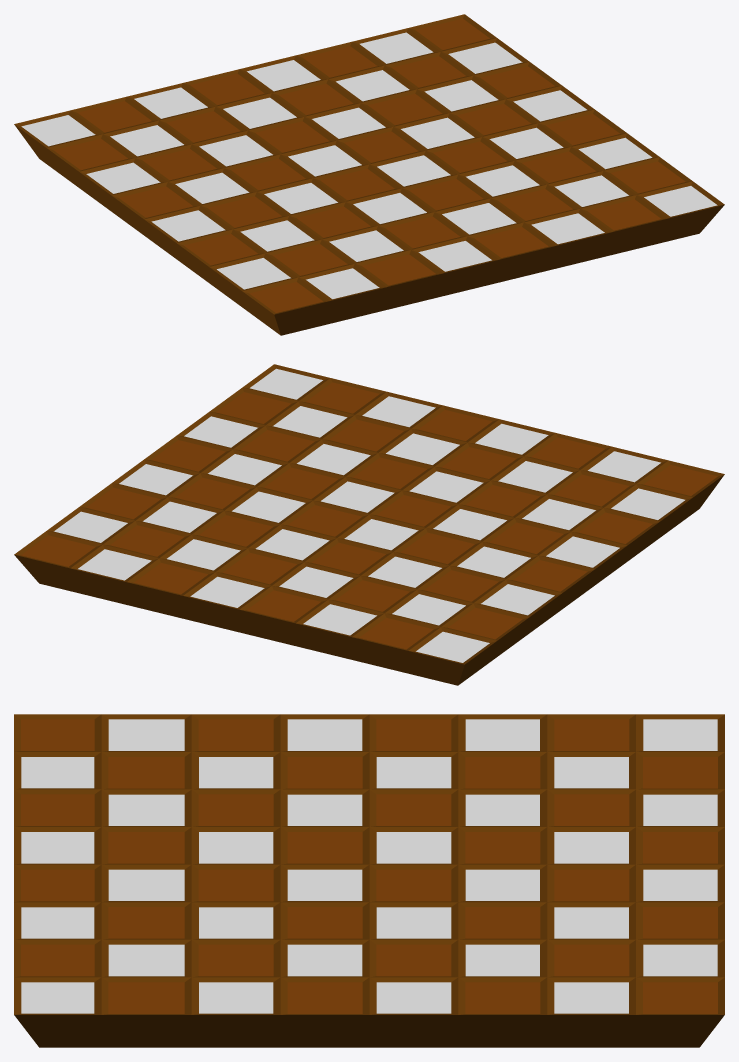
File: echequier-DL6dOmx_.glb
3 views of the same model, one above another, from view 1: azimuth 30°, elevation 25°; view 2: azimuth 150°, elevation 25°; view 3: azimuth 270°, elevation 25° (orthographic). The views are drawn at different scales.
Visible parts, largest first — view 1: Cube; view 2: Cube; view 3: Cube.
Boxes of the visible parts, left/top/right/bottom form: Cube: left=14, top=14, right=724, bottom=335; Cube: left=14, top=364, right=724, bottom=685; Cube: left=14, top=714, right=724, bottom=1047.
Bounding box in the file's own units: 22.37 × 1.51 × 22.37.
